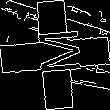M_W: (28, 30, 82, 80)
